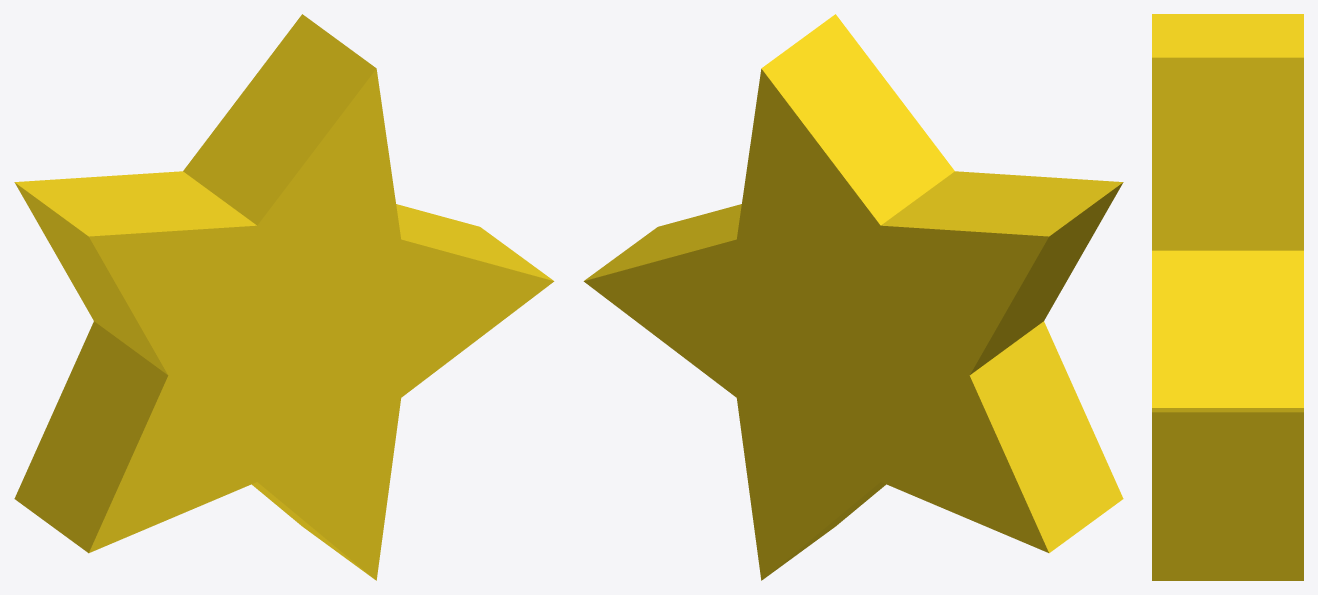
Rendered from star.obj.
The picture shows the model from 3 angles, left to right: view 1: azimuth 30°, elevation 25°; view 2: azimuth 150°, elevation 25°; view 3: azimuth 270°, elevation 25°; orthographic projection. The views are drawn at different scales.
Visible parts, largest first — view 1: obj_0; view 2: obj_0; view 3: obj_0.
Boxes of the visible parts, x1=… form: obj_0: x1=14, y1=14, x2=554, y2=580; obj_0: x1=583, y1=14, x2=1123, y2=580; obj_0: x1=1152, y1=14, x2=1303, y2=580.
Bounding box in the file's own units: 36.18 × 38.04 × 10.
